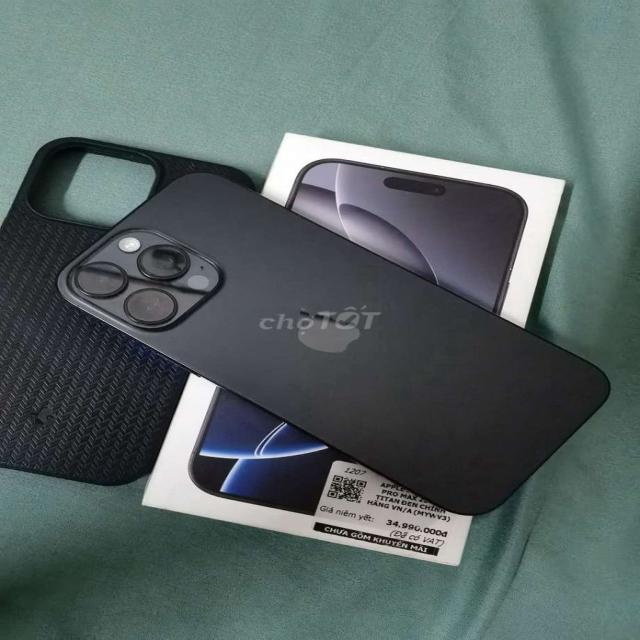gen_16: (58, 167, 622, 526)
